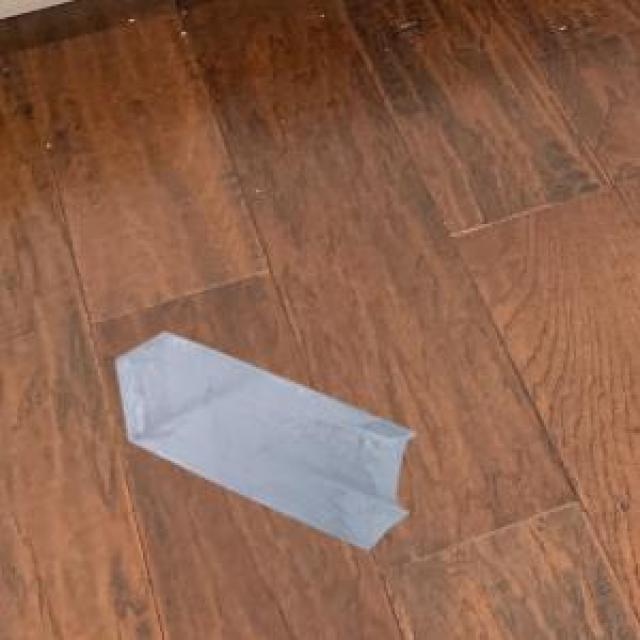waste: (116, 332, 410, 547)
